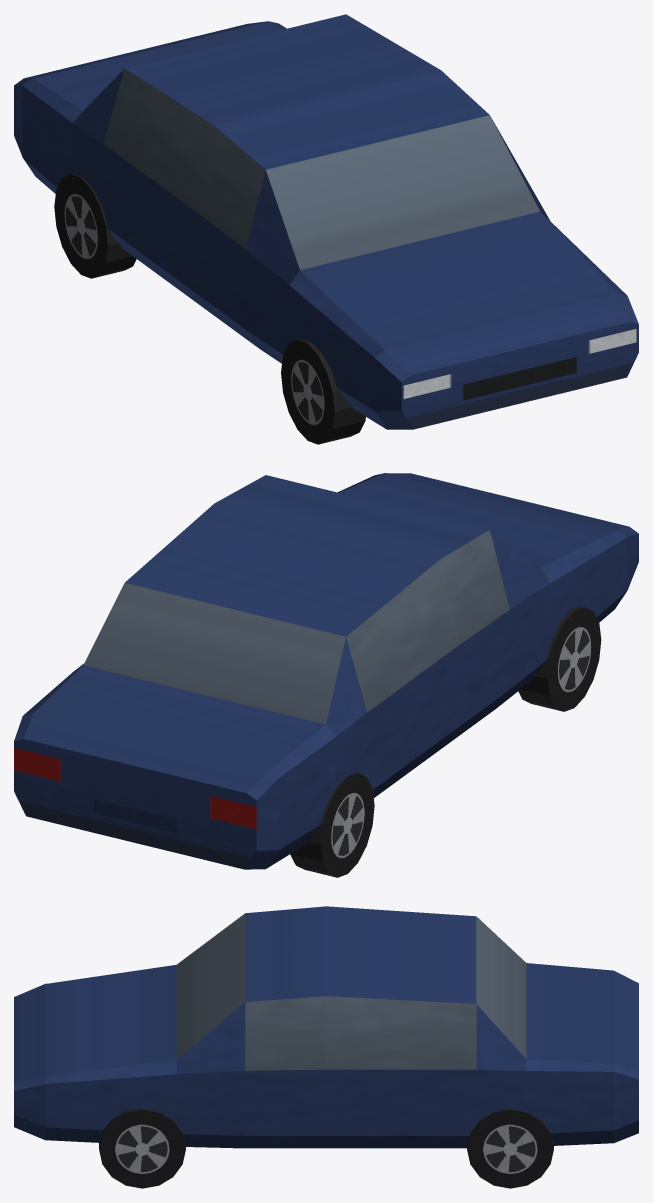
Rendered from SM_Morin_Auto_C_Col.fbx.
The picture shows the model from 3 angles, top to bottom: view 1: azimuth 30°, elevation 25°; view 2: azimuth 150°, elevation 25°; view 3: azimuth 270°, elevation 25°; orthographic projection. The views are drawn at different scales.
Parts seen in each view (by area): view 1: SM_Morin_Auto_C_Col; view 2: SM_Morin_Auto_C_Col; view 3: SM_Morin_Auto_C_Col.
Part boxes in pixels (<box>): SM_Morin_Auto_C_Col: <box>14,14,638,444</box>; SM_Morin_Auto_C_Col: <box>14,473,638,877</box>; SM_Morin_Auto_C_Col: <box>14,906,638,1188</box>.
Size of what is drawn, in the model's own units: 178 by 445 by 145.
Materials: 1 (1 with a texture image).
